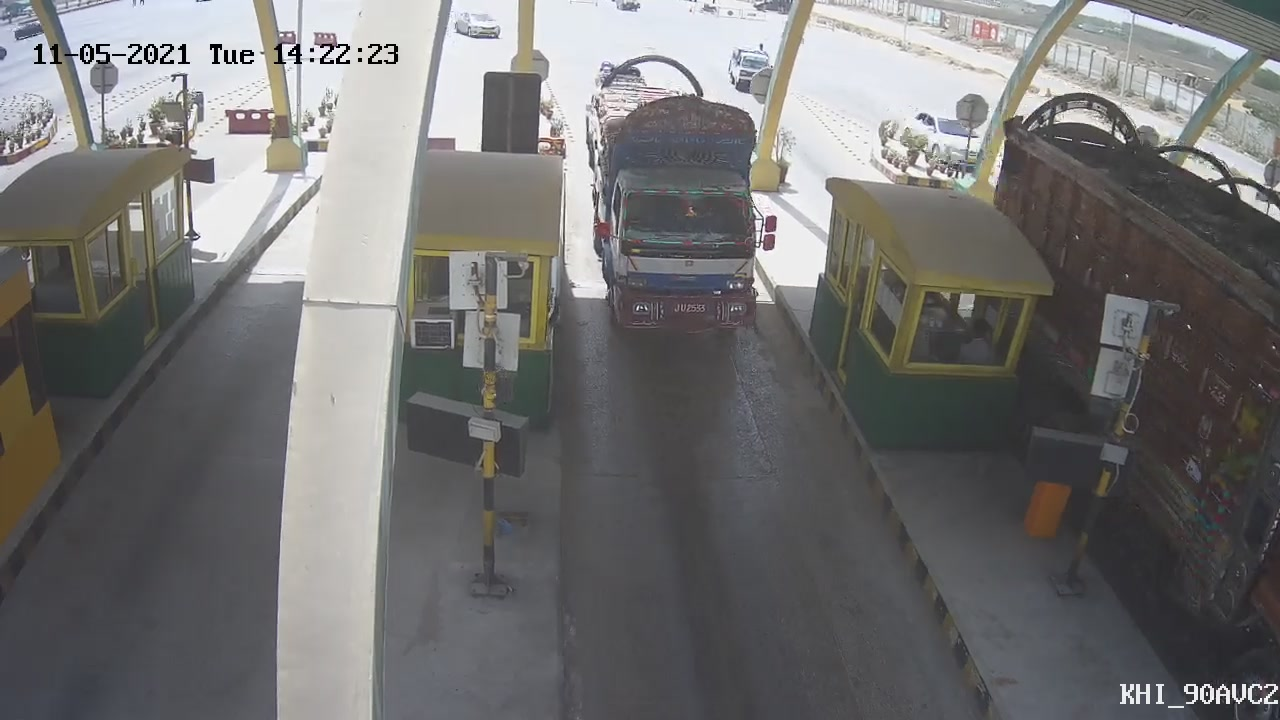F5: (592, 50, 791, 368)
